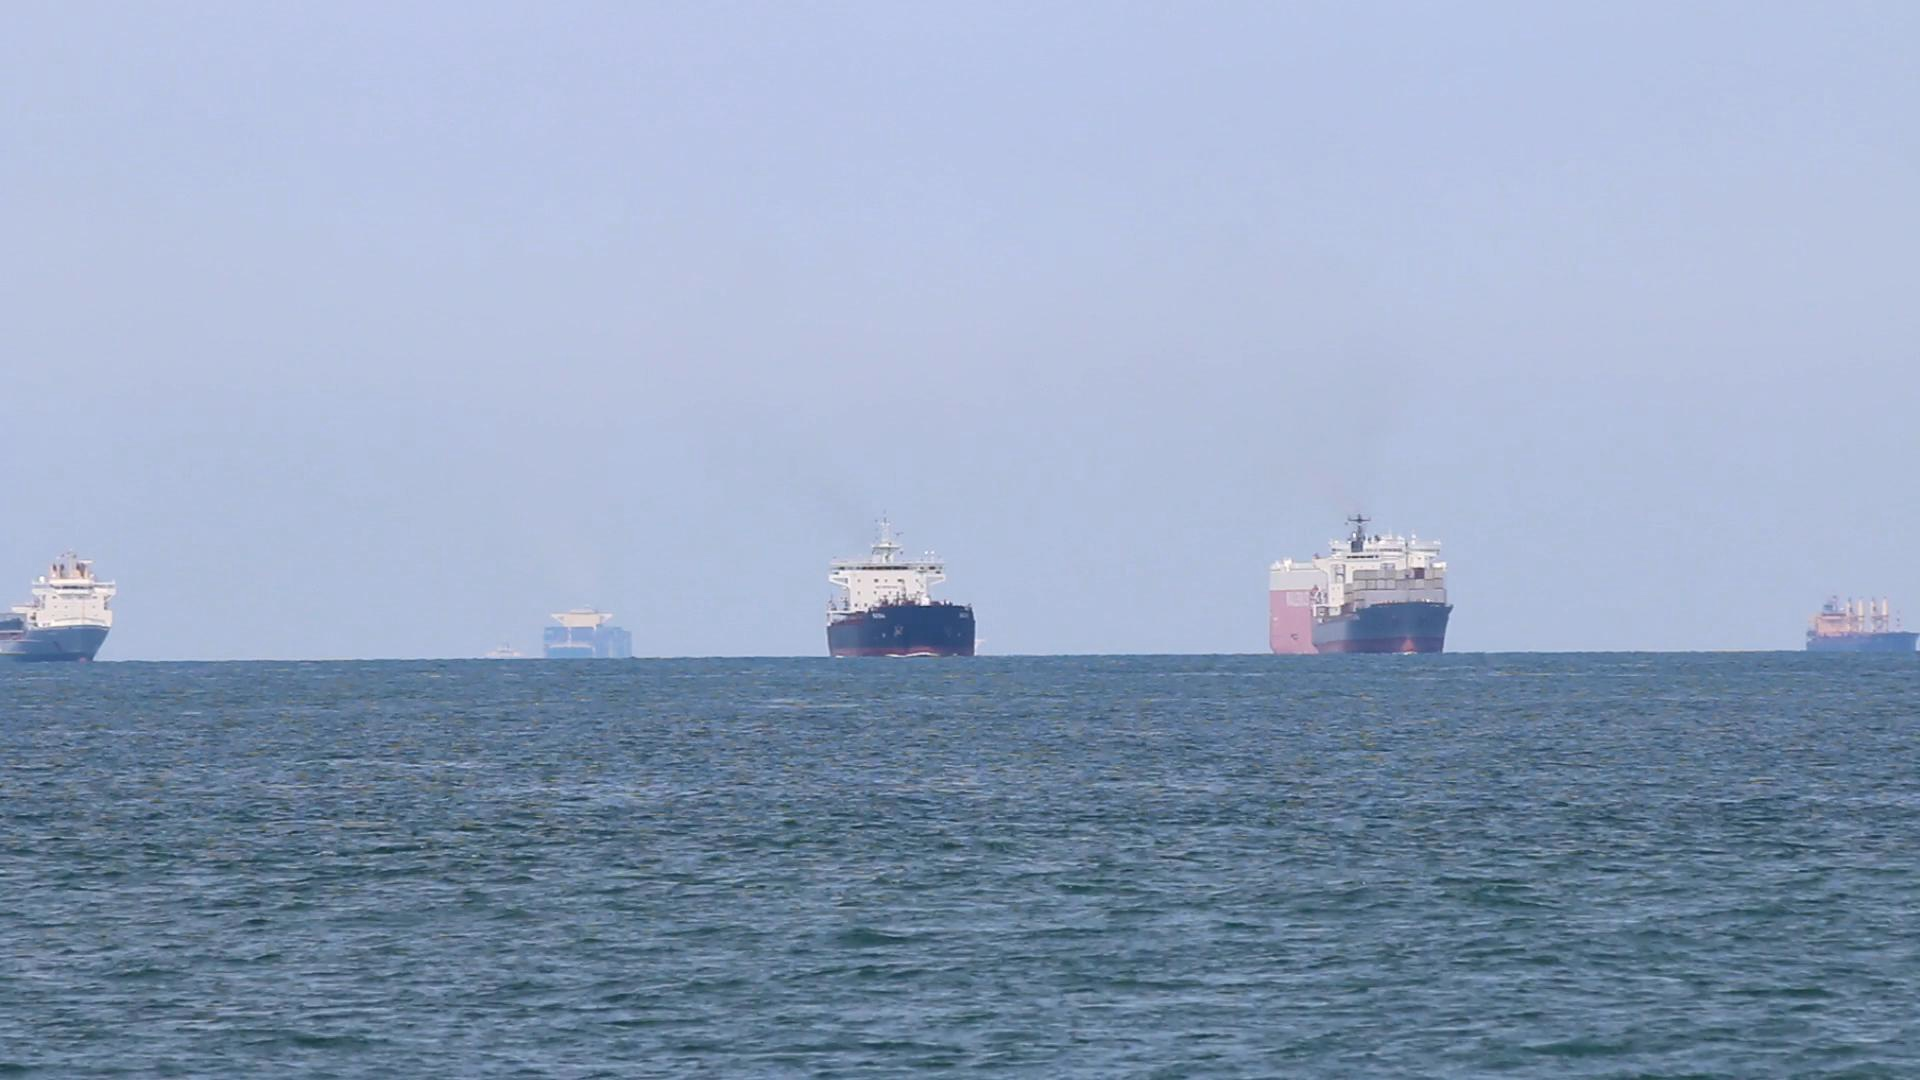Container Ship: (1267, 497, 1458, 658), (823, 500, 976, 659), (3, 545, 121, 662), (1803, 587, 1917, 654), (553, 589, 638, 663), (500, 634, 562, 663)
